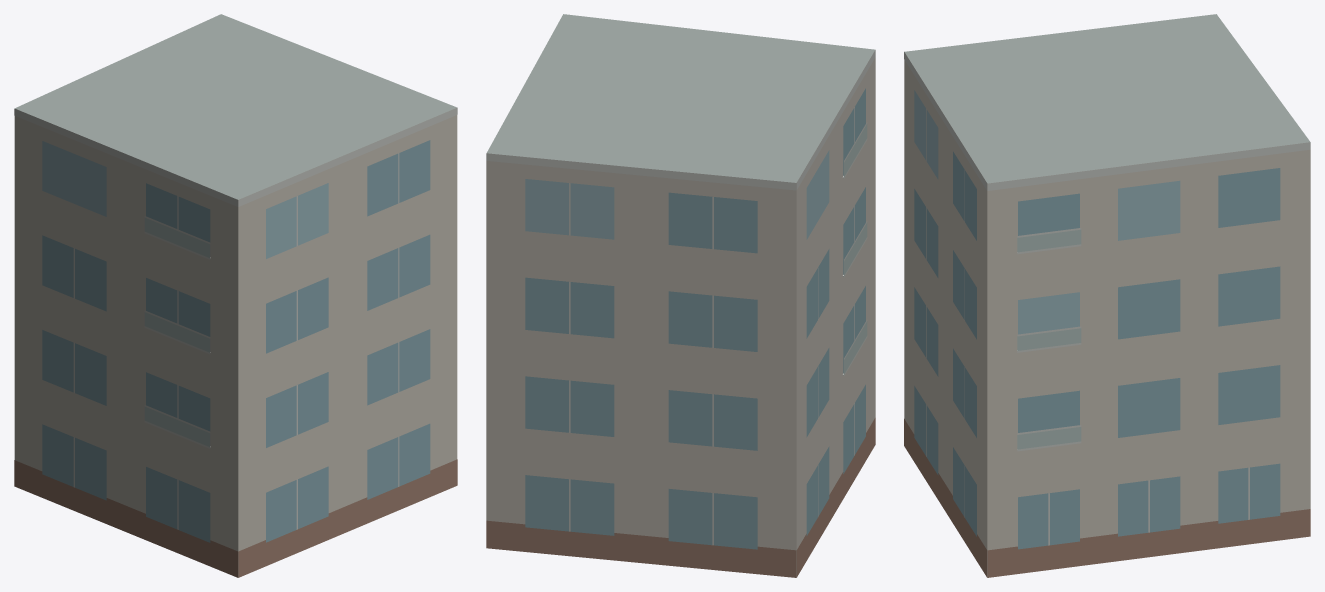
The model's file is survey-upis-32618035.glb.
3 renders of one model, left to right at view 1: azimuth 30°, elevation 25°; view 2: azimuth 150°, elevation 25°; view 3: azimuth 270°, elevation 25°, orthographic. The views are drawn at different scales.
Visible parts, largest first — view 1: survey-upis-32618035.tmp; view 2: survey-upis-32618035.tmp; view 3: survey-upis-32618035.tmp.
Part boxes in pixels (x1=…): survey-upis-32618035.tmp: x1=14, y1=14, x2=457, y2=577; survey-upis-32618035.tmp: x1=486, y1=14, x2=875, y2=577; survey-upis-32618035.tmp: x1=904, y1=14, x2=1310, y2=577.
Bounding box in the file's own units: 11.82 × 12.8 × 11.97.
